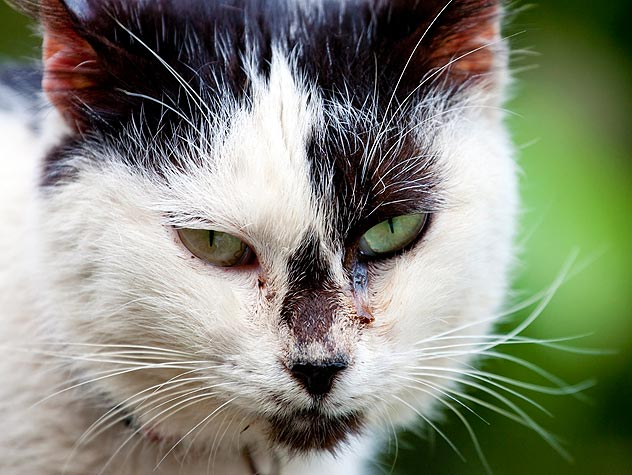Cat: (9, 3, 577, 456)
